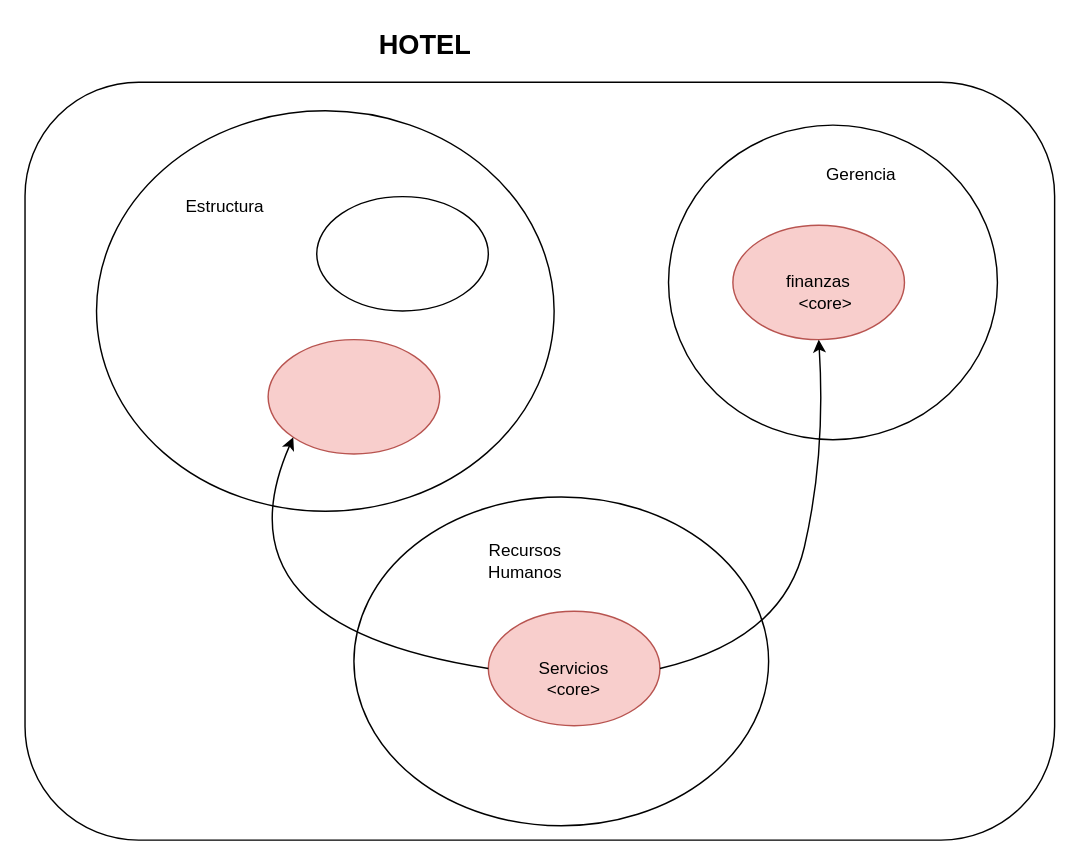
Image size: 1080x865. Some labels were removed from this diagram. Each missing label, with the centre of its shape:
Bar-Restaurante: pixel 401 253
Habitaciones: pixel 353 396
